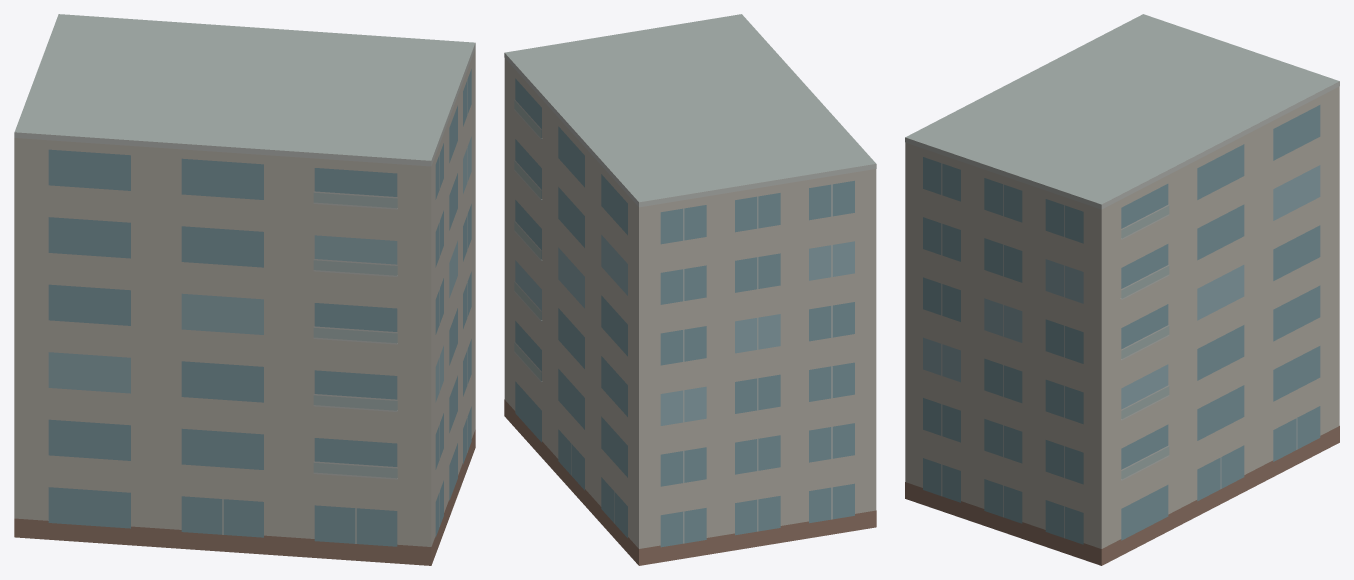
File: survey-upis-32851466.glb
3 views of the same model, side by side, from view 1: azimuth 30°, elevation 25°; view 2: azimuth 150°, elevation 25°; view 3: azimuth 270°, elevation 25° (orthographic). The views are drawn at different scales.
Visible parts, largest first — view 1: survey-upis-32851466.tmp; view 2: survey-upis-32851466.tmp; view 3: survey-upis-32851466.tmp.
Part boxes in pixels (box(x1,y1,x2,y2)): survey-upis-32851466.tmp: box(14, 14, 475, 565); survey-upis-32851466.tmp: box(504, 14, 876, 565); survey-upis-32851466.tmp: box(905, 14, 1339, 565).
Size of the model in its own units: 19.8 by 17.5 by 19.09.
